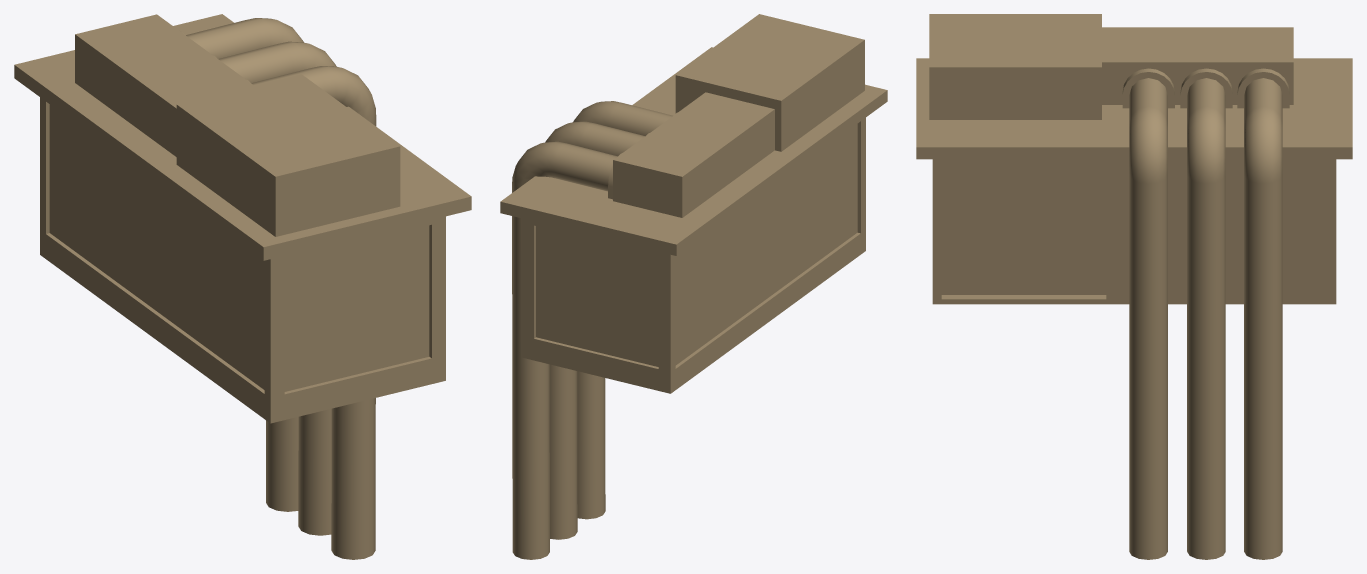
File: DamPropEngine.fbx
3 renders of one model, left to right at view 1: azimuth 30°, elevation 25°; view 2: azimuth 150°, elevation 25°; view 3: azimuth 270°, elevation 25°, orthographic. The views are drawn at different scales.
Parts seen in each view (by area): view 1: Machine; view 2: Machine; view 3: Machine.
Boxes of the visible parts, x1,y1,x2,y2 form: Machine: (14,14,471,559); Machine: (500,14,887,559); Machine: (916,14,1352,559).
Size of the model in its own units: 3.58 by 7.28 by 6.38.
